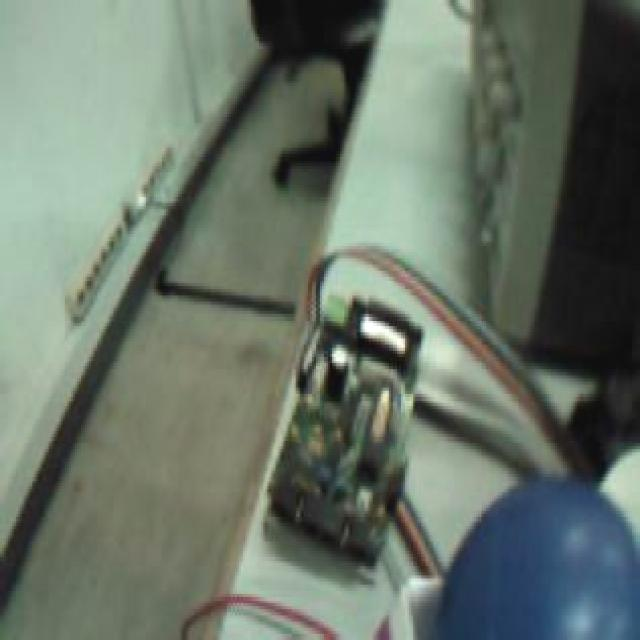BallPurple: (435, 474, 638, 640)
